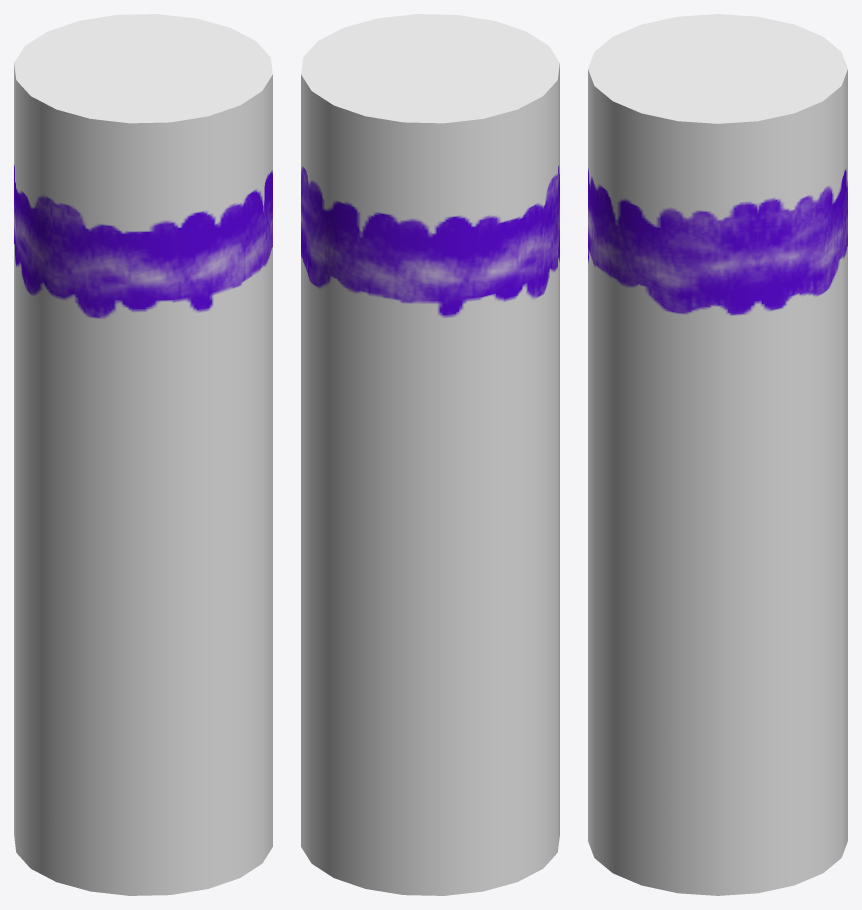
File: Sound Cylinder.fbx
3 renders of one model, left to right at view 1: azimuth 30°, elevation 25°; view 2: azimuth 150°, elevation 25°; view 3: azimuth 270°, elevation 25°, orthographic.
Visible parts, largest first — view 1: pCylinder3; view 2: pCylinder3; view 3: pCylinder3.
Part boxes in pixels (box(x1,y1,x2,y2)): pCylinder3: box(14, 14, 272, 895); pCylinder3: box(301, 14, 559, 895); pCylinder3: box(588, 14, 847, 895).
Size of the model in its own units: 2.42 by 7.93 by 2.42.
Materials: 2 (2 with a texture image).
